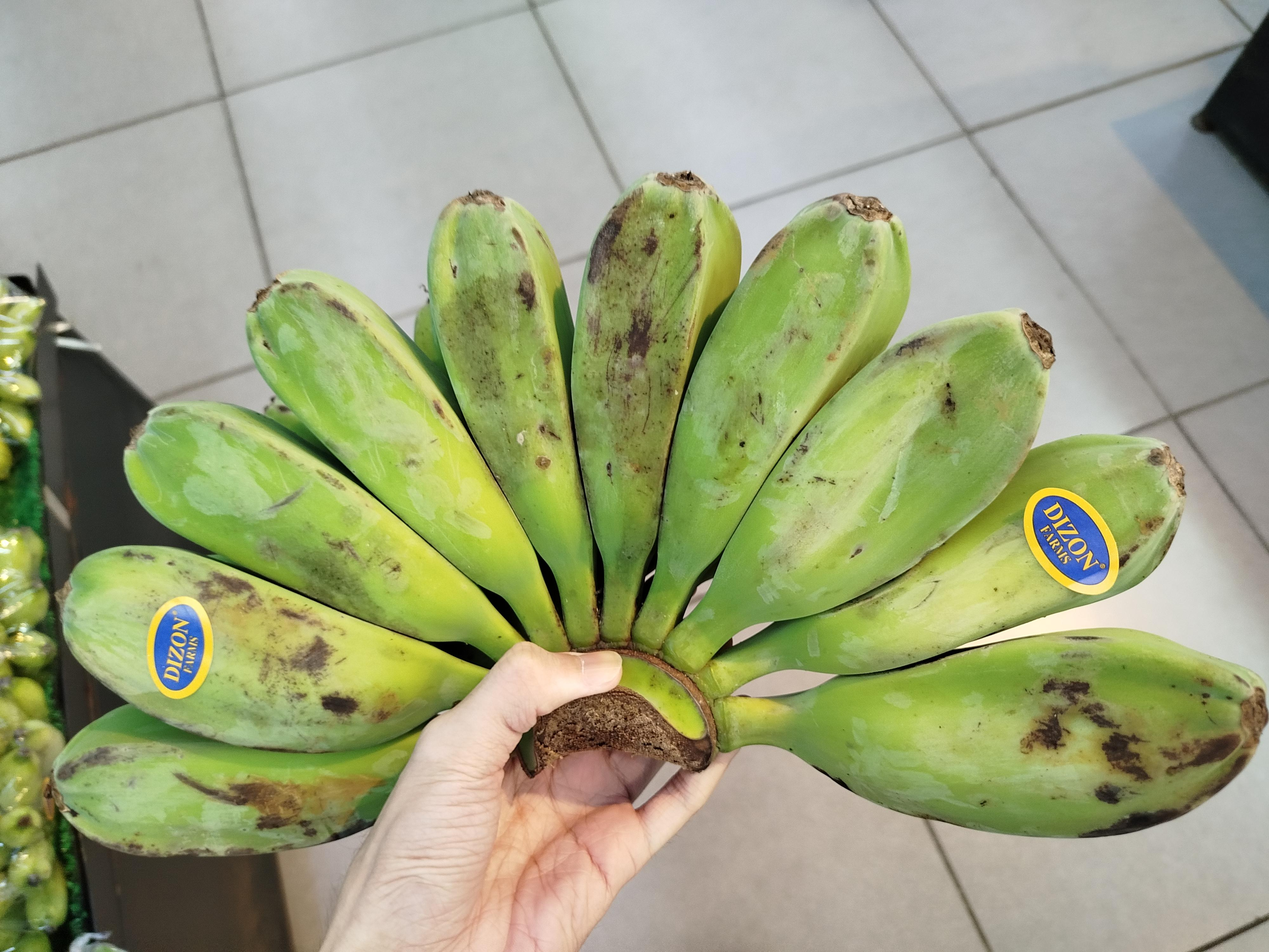underripe: (55, 173, 1266, 855)
